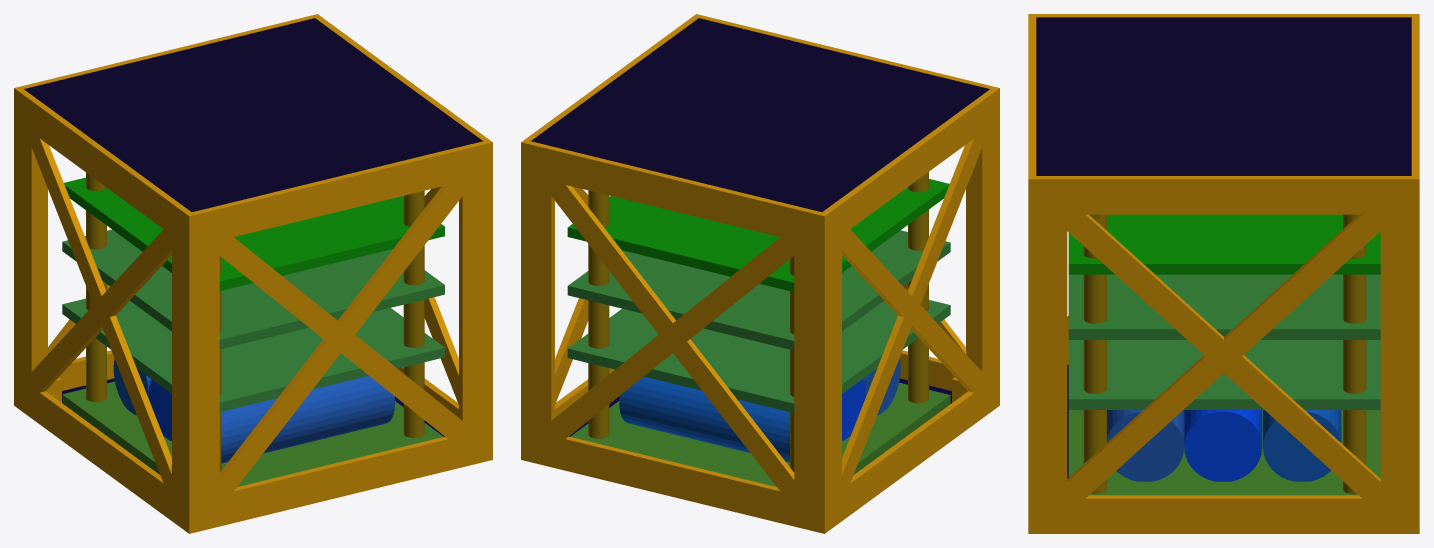
The model's file is Leo.glb.
The picture shows the model from 3 angles, left to right: view 1: azimuth 30°, elevation 25°; view 2: azimuth 150°, elevation 25°; view 3: azimuth 270°, elevation 25°; orthographic projection. The views are drawn at different scales.
Visible parts, largest first — view 1: side Frames, top, Layer 0, Layer 1, Layer 2, Layer 3, Support 4, Support 1; view 2: side Frames, top, Layer 0, Layer 1, Layer 2, Layer 3, Support 2, Support 3, Support 1; view 3: side Frames, top, Layer 0, Layer 1, Layer 3, Layer 2, Support 2, Support 4.
Part boxes in pixels (<box>): side Frames: <box>14,14,492,533</box>; top: <box>24,18,482,211</box>; Layer 0: <box>62,359,443,486</box>; Layer 1: <box>62,298,444,411</box>; Layer 2: <box>62,229,444,349</box>; Layer 3: <box>64,177,444,290</box>; Support 4: <box>403,190,424,437</box>; Support 1: <box>86,172,106,402</box>; side Frames: <box>521,14,999,533</box>; top: <box>531,18,989,211</box>; Layer 0: <box>570,358,950,486</box>; Layer 1: <box>567,300,950,412</box>; Layer 2: <box>567,230,950,350</box>; Layer 3: <box>567,179,949,291</box>; Support 2: <box>588,190,609,438</box>; Support 3: <box>908,172,928,403</box>; Support 1: <box>790,256,794,472</box>; side Frames: <box>1028,14,1419,533</box>; top: <box>1036,17,1411,175</box>; Layer 0: <box>1068,410,1380,495</box>; Layer 1: <box>1068,340,1380,409</box>; Layer 3: <box>1068,214,1380,274</box>; Layer 2: <box>1068,274,1380,339</box>; Support 2: <box>1343,214,1366,494</box>; Support 4: <box>1083,214,1106,494</box>.
Bounding box in the file's own units: 152 × 152 × 152.
